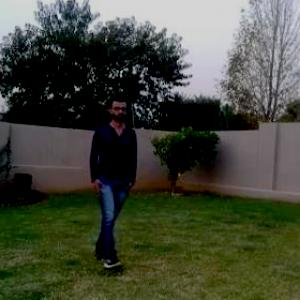follow: (89, 99, 132, 246)
